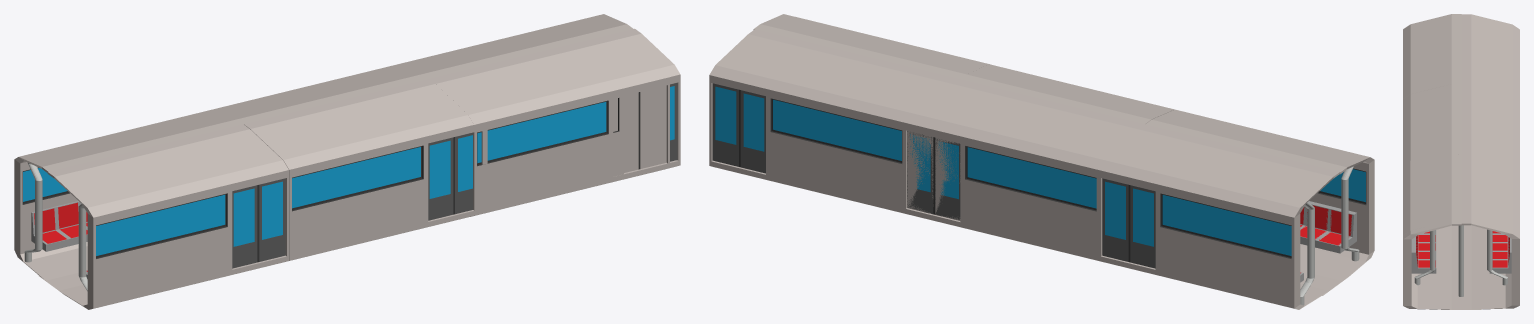
File: metro.fbx
3 renders of one model, left to right at view 1: azimuth 30°, elevation 25°; view 2: azimuth 150°, elevation 25°; view 3: azimuth 270°, elevation 25°, orthographic. The views are drawn at different scales.
Parts seen in each view (by area): view 1: Cube.011, Cube.009, Cube.006, Cube.005, Cube.001, Cube.002, Cube.010, Cube.008, Cylinder.030, Cylinder.019; view 2: Cube.005, Cube.002, Cube.001, Cube.011, Cube.009, Cube.006, Cube.004, Cube.013, Cube.010, Cube.012, Cylinder.030, Cylinder.019; view 3: Cube.002, Cube.001, Cube.009, Cube.010, Cube.011, Cube.005, Cube.006, Cube.014, Cube.007, Cylinder.014, Cylinder.023, Cylinder.026.
Boxes of the visible parts, <box> form: Cube.011: <box>38,124,288,309</box>; Cube.009: <box>244,76,484,260</box>; Cube.006: <box>436,36,669,216</box>; Cube.005: <box>14,109,243,285</box>; Cube.001: <box>214,61,438,123</box>; Cube.002: <box>409,14,633,76</box>; Cube.010: <box>439,28,680,176</box>; Cube.008: <box>31,201,87,251</box>; Cylinder.030: <box>24,202,42,262</box>; Cylinder.019: <box>78,229,87,291</box>; Cube.005: <box>1099,124,1339,309</box>; Cube.002: <box>709,29,949,213</box>; Cube.001: <box>903,77,1144,261</box>; Cube.011: <box>1145,109,1374,295</box>; Cube.009: <box>949,64,1174,124</box>; Cube.006: <box>771,16,989,74</box>; Cube.004: <box>907,131,960,220</box>; Cube.013: <box>1300,204,1356,253</box>; Cube.010: <box>753,14,955,76</box>; Cube.012: <box>1300,201,1355,252</box>; Cylinder.030: <box>1300,230,1314,305</box>; Cylinder.019: <box>1341,201,1359,261</box>; Cube.002: <box>1461,153,1519,309</box>; Cube.001: <box>1461,84,1519,239</box>; Cube.009: <box>1403,84,1461,239</box>; Cube.010: <box>1403,154,1481,309</box>; Cube.011: <box>1403,14,1461,98</box>; Cube.005: <box>1461,14,1519,98</box>; Cube.006: <box>1403,150,1458,239</box>; Cube.014: <box>1411,230,1436,273</box>; Cube.007: <box>1489,231,1511,273</box>; Cylinder.014: <box>1458,225,1463,296</box>; Cylinder.023: <box>1414,235,1435,285</box>; Cylinder.026: <box>1487,235,1507,285</box>.
Size of the model in its own units: 3523 by 653 by 820.
